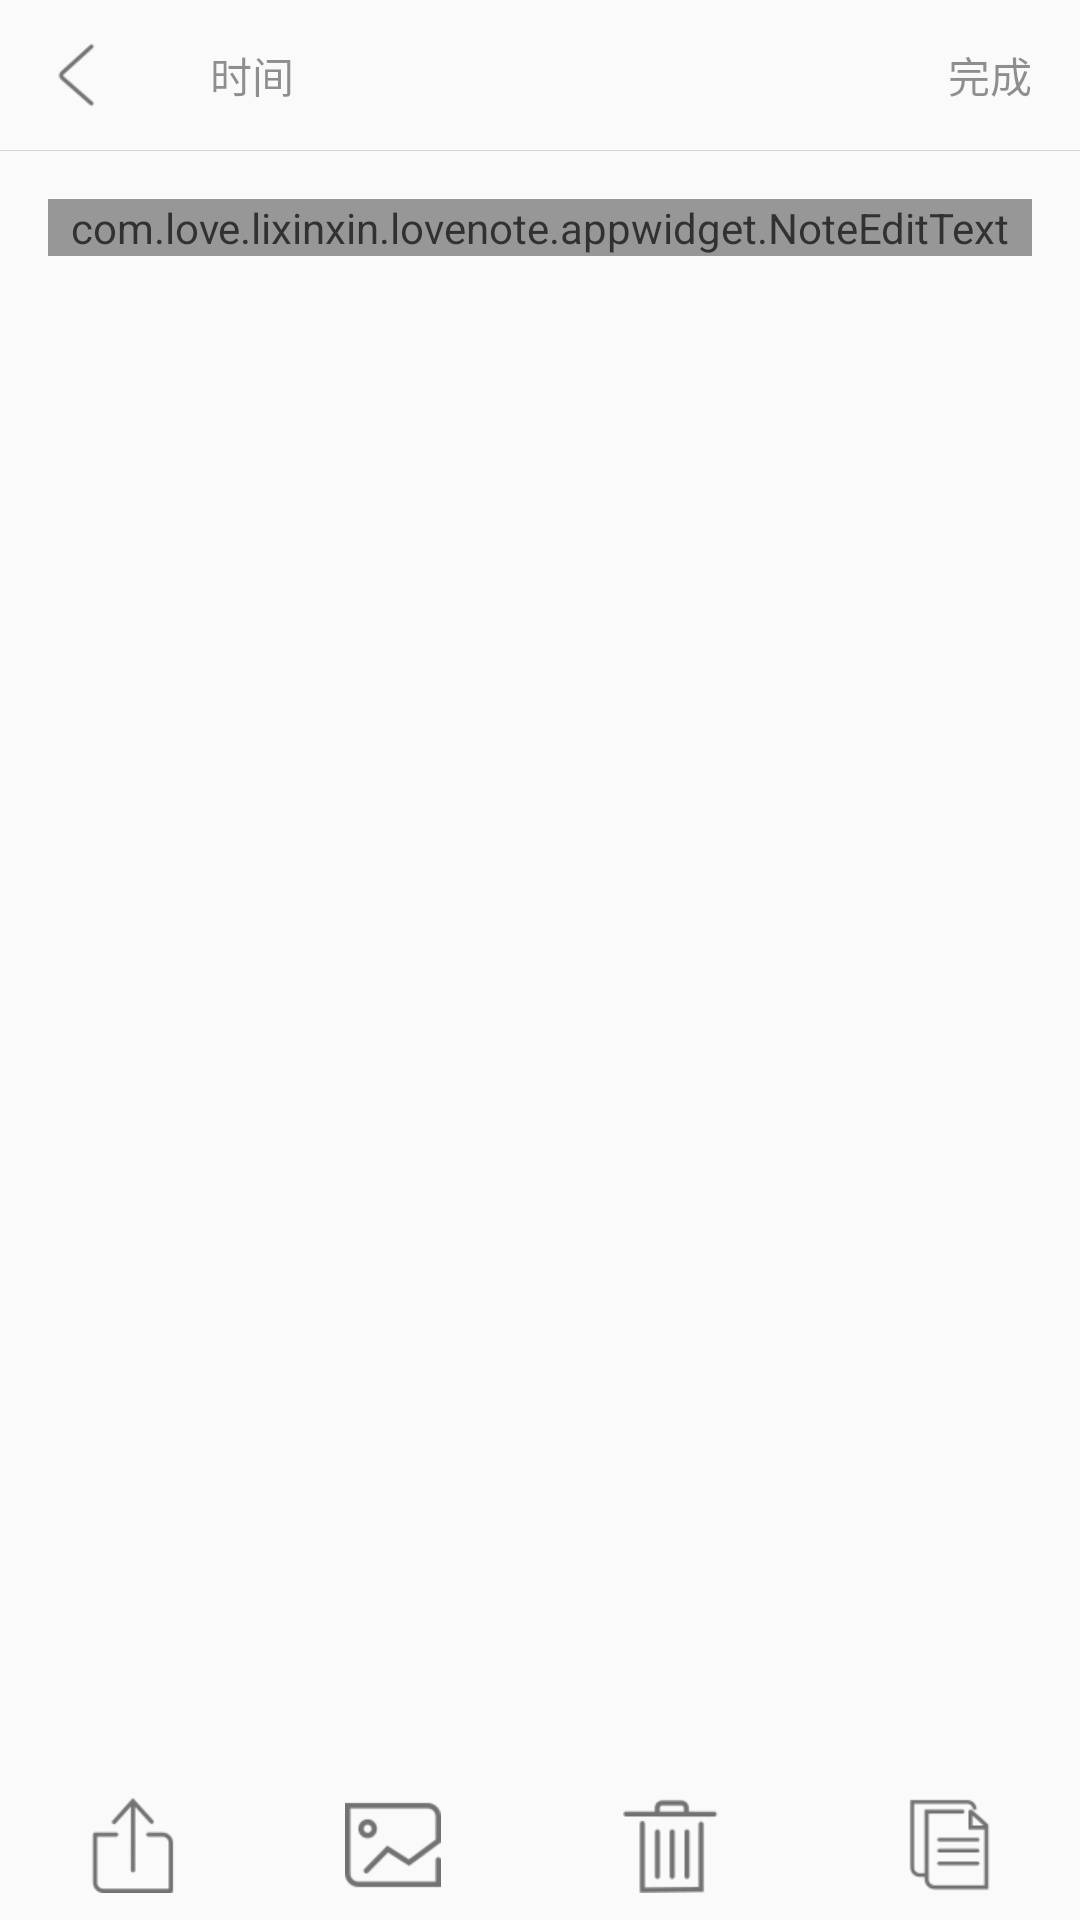

Named icons in this screenshot (1080px×1920px) and their centers, (x=x, y=y):
back: (x=76, y=75)
delete: (x=670, y=1846)
share: (x=132, y=1845)
